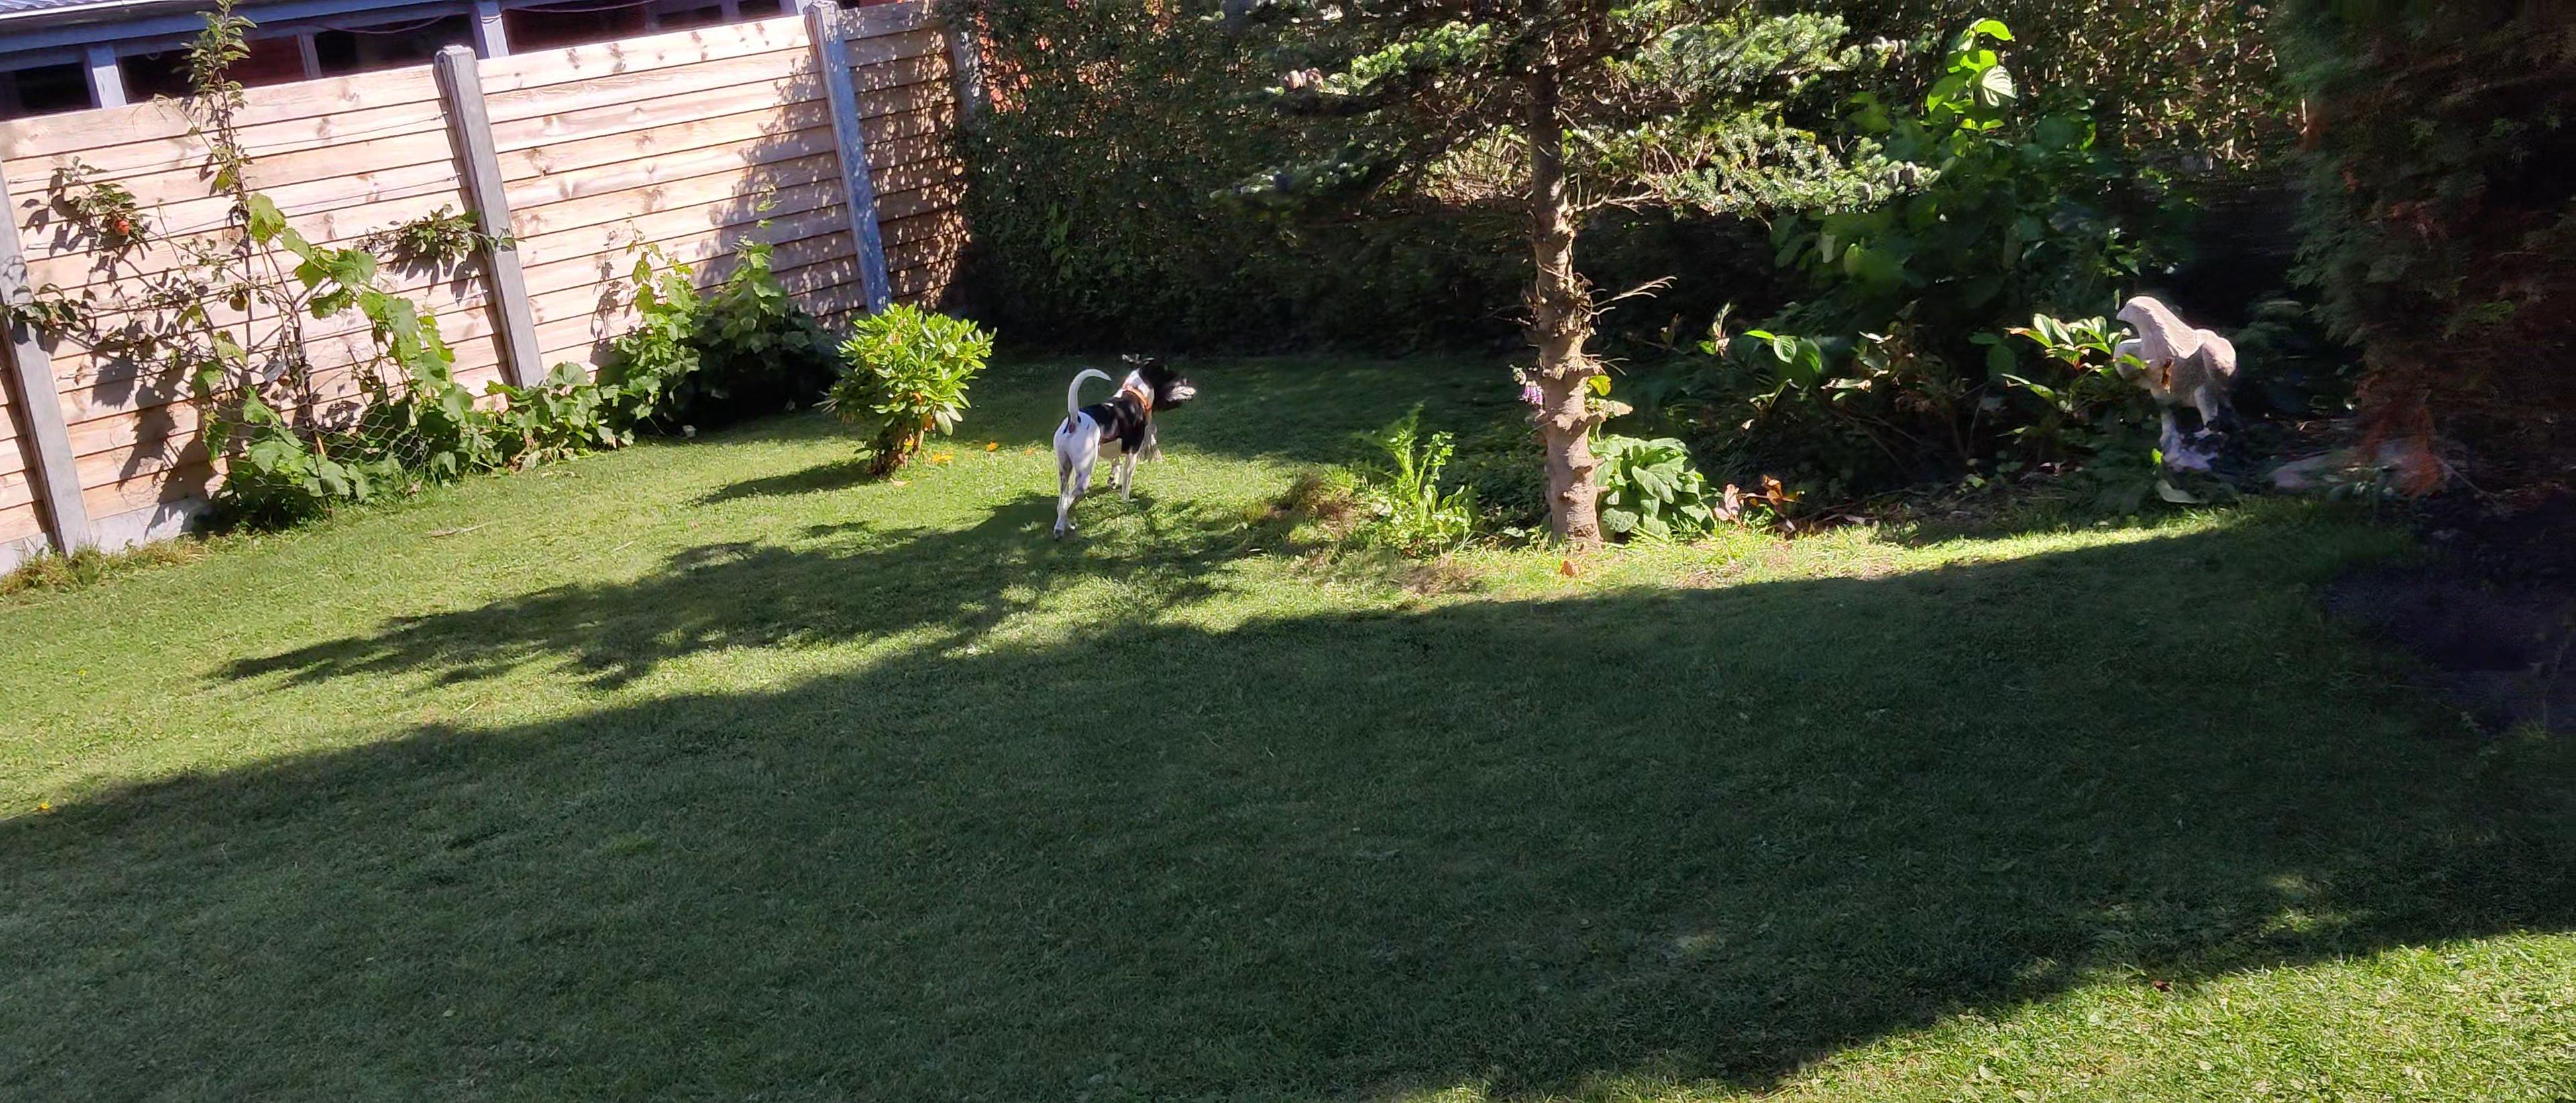Dog: (1050, 352, 1188, 539)
